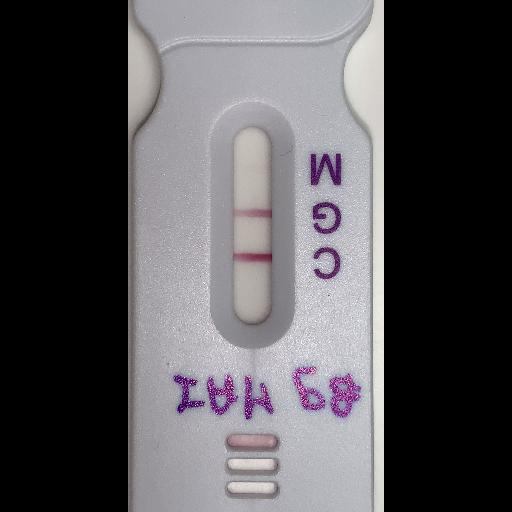Pos: (128, 0, 375, 511)
